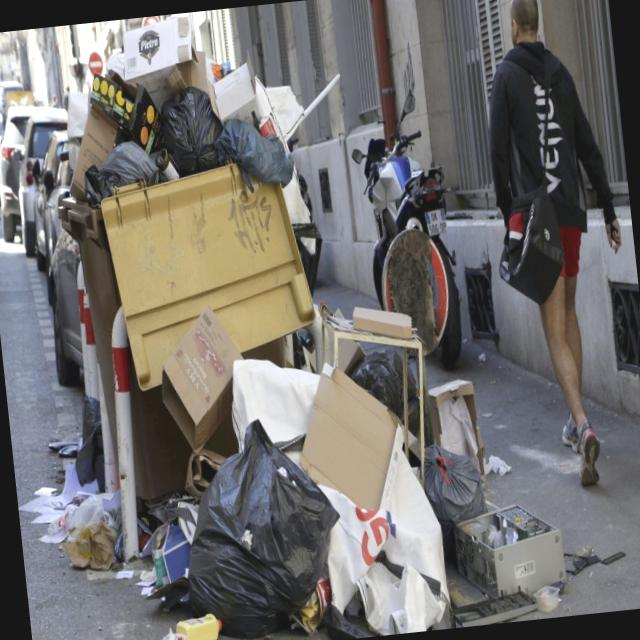garbage: (48, 20, 532, 640)
